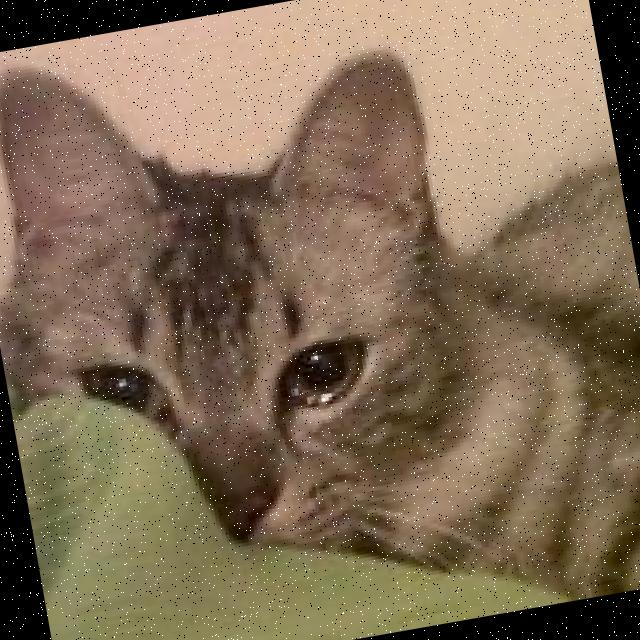Sad: (9, 246, 422, 601)
